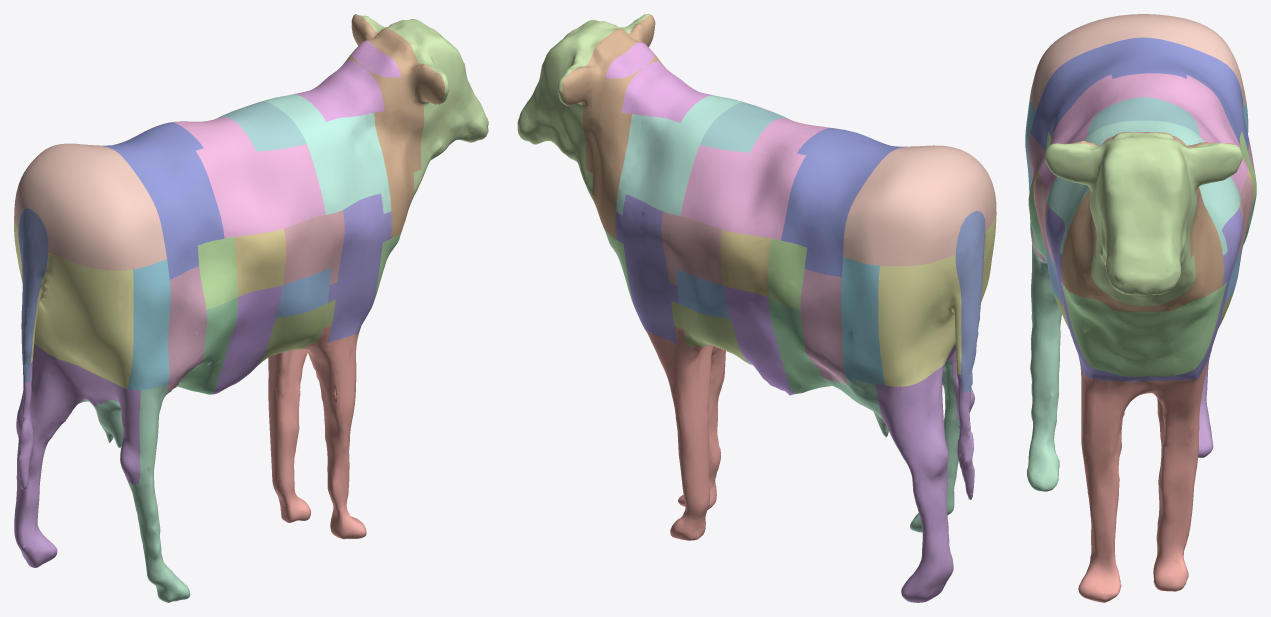
3 views of the same model, side by side, from view 1: azimuth 30°, elevation 25°; view 2: azimuth 150°, elevation 25°; view 3: azimuth 270°, elevation 25° (orthographic). The views are drawn at different scales.
Parts seen in each view (by area): view 1: picanha, musculo, lagarto, contrafile, coxao-duro, alcatra, pescoco, acem, lingua, paleta, ossobuco, coxao-mole (+11 smaller); view 2: picanha, lagarto, contrafile, coxao-duro, alcatra, musculo, pescoco, acem, lingua, paleta, coxao-mole, cupim (+11 smaller); view 3: lingua, musculo, peito, alcatra, contrafile, pescoco, ossobuco, picanha, acem, paleta, capa-de-file, costela (+6 smaller).
Boxes of the visible parts, left/top/right/bottom form: picanha: left=14, top=143, right=166, bottom=270; musculo: left=268, top=325, right=366, bottom=539; lagarto: left=14, top=343, right=140, bottom=567; contrafile: left=159, top=117, right=325, bottom=238; coxao-duro: left=14, top=217, right=133, bottom=388; alcatra: left=98, top=122, right=224, bottom=279; pescoco: left=345, top=14, right=444, bottom=238; acem: left=260, top=94, right=391, bottom=214; lingua: left=356, top=14, right=488, bottom=197; paleta: left=328, top=193, right=391, bottom=341; ossobuco: left=81, top=378, right=190, bottom=602; coxao-mole: left=127, top=259, right=170, bottom=390; picanha: left=843, top=145, right=996, bottom=266; lagarto: left=875, top=344, right=974, bottom=602; contrafile: left=680, top=118, right=841, bottom=240; coxao-duro: left=878, top=212, right=996, bottom=386; alcatra: left=781, top=128, right=911, bottom=276; musculo: left=646, top=326, right=725, bottom=540; pescoco: left=561, top=15, right=661, bottom=239; acem: left=616, top=95, right=744, bottom=215; lingua: left=517, top=14, right=650, bottom=200; paleta: left=615, top=194, right=678, bottom=343; coxao-mole: left=841, top=257, right=884, bottom=385; cupim: left=605, top=42, right=712, bottom=122; lingua: left=1045, top=132, right=1242, bottom=305; musculo: left=1078, top=347, right=1212, bottom=602; peito: left=1061, top=282, right=1226, bottom=376; alcatra: left=1030, top=37, right=1249, bottom=151; contrafile: left=1039, top=73, right=1248, bottom=196; pescoco: left=1059, top=132, right=1238, bottom=311; ossobuco: left=1027, top=240, right=1061, bottom=491; picanha: left=1030, top=14, right=1245, bottom=111; acem: left=1047, top=120, right=1240, bottom=255; paleta: left=1045, top=207, right=1242, bottom=381; capa-de-file: left=1087, top=97, right=1199, bottom=136; costela: left=1034, top=174, right=1252, bottom=283.
Bounding box in the file's own units: 1 × 0.995 × 0.4133.
